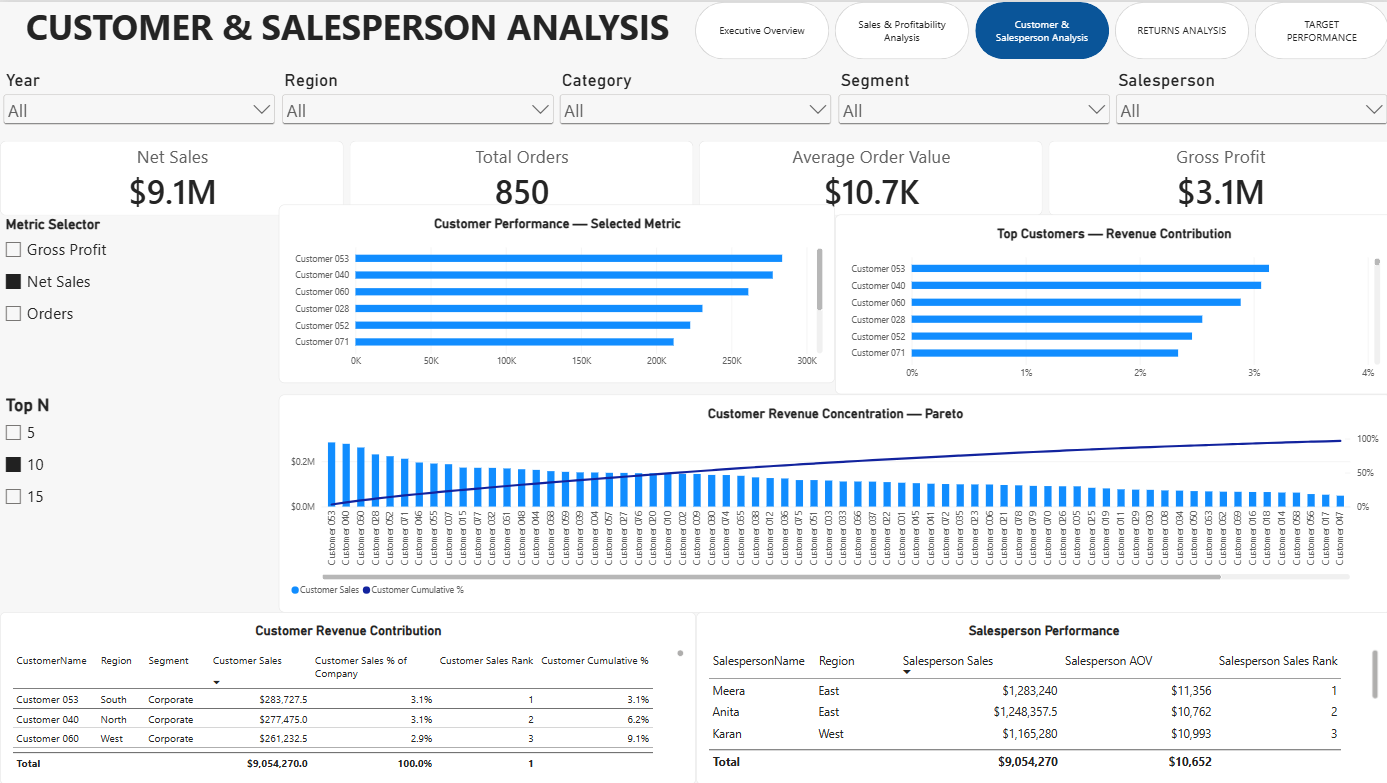

What the dashboard file says about the page in this screenshot:
{"tool":"powerbi","page":{"name":"Customer & Salesperson Analysis","canvas":[1920,1080],"ordinal":2},"visuals":[{"type":"textbox","box":[0,0,959.2,93.3],"z":0},{"type":"slicer","fields":{"Values":["DimDate.Year"]},"box":[0,93.5,384,97.4],"z":1000},{"type":"slicer","fields":{"Values":["DimRegion.Region"]},"box":[383.7,93.5,384,97.4],"z":2000},{"type":"slicer","fields":{"Values":["DimProduct.Category"]},"box":[767.4,93.5,384,97.4],"z":3000},{"type":"slicer","fields":{"Values":["DimCustomer.Segment"]},"box":[1151.1,93.5,384,97.4],"z":4000},{"type":"slicer","fields":{"Values":["DimSalesperson.SalespersonName"]},"box":[1534.8,93.5,384,97.4],"z":5000},{"type":"cardVisual","fields":{"Data":["Measures_table.Net Sales","Measures_table.Total Orders","Measures_table.Average Order Value","Measures_table.Gross Profit"]},"box":[0,190.9,1920.1,103.2],"z":6000},{"type":"clusteredBarChart","title":"Customer Performance — Selected Metric","fields":{"Category":["DimCustomer.CustomerName"],"Y":["Measures_table.Selected Metric"]},"box":[383.6,278.7,767.3,246.1],"z":7000},{"type":"clusteredBarChart","title":"Top Customers — Revenue Contribution","fields":{"Y":["Measures_table.Customer Sales % of Company"],"Category":["DimCustomer.CustomerName"]},"box":[1150.9,293.2,769.1,247.9],"z":8000},{"type":"lineClusteredColumnComboChart","title":"Customer Revenue Concentration — Pareto","fields":{"Y":["Measures_table.Customer Sales"],"Category":["DimCustomer.CustomerName"],"Y2":["Measures_table.Customer Cumulative %"]},"box":[383.6,541.1,1534.6,300.4],"z":9000},{"type":"tableEx","title":"Customer Revenue Contribution","fields":{"Values":["DimCustomer.CustomerName","DimCustomer.Region","DimCustomer.Segment","Measures_table.Customer Sales","Measures_table.Customer Sales % of Company","Measures_table.Customer Sales Rank","Measures_table.Customer Cumulative %"]},"box":[0,842,960,238],"z":10000},{"type":"tableEx","title":"Salesperson Performance","fields":{"Values":["DimSalesperson.SalespersonName","DimSalesperson.Region","Measures_table.Salesperson Sales","Measures_table.Salesperson AOV","Measures_table.Salesperson Sales Rank"]},"box":[960,842,958,238],"z":11000},{"type":"slicer","fields":{"Values":["Metric Selector.Metric"]},"box":[0,294,384,231],"z":12000},{"type":"slicer","fields":{"Values":["Top N Selector.Top N"]},"box":[0,541,384,300],"z":13000},{"type":"pageNavigator","box":[958.8,0,961.2,79.4],"z":14000}]}

Visuals, with their boxes in screenshot pixels (x1, y1, x2, y2), scaled from the page's 1920x1080 canvas onto the 1387x783 screenshot:
textbox: <box>0,0,693,68</box>
slicer - DimDate.Year: <box>0,68,277,138</box>
slicer - DimRegion.Region: <box>277,68,555,138</box>
slicer - DimProduct.Category: <box>554,68,832,138</box>
slicer - DimCustomer.Segment: <box>832,68,1109,138</box>
slicer - DimSalesperson.SalespersonName: <box>1109,68,1386,138</box>
cardVisual - Measures_table.Net Sales x Measures_table.Total Orders: <box>0,138,1386,213</box>
"Customer Performance — Selected Metric" clusteredBarChart: <box>277,202,831,380</box>
"Top Customers — Revenue Contribution" clusteredBarChart: <box>831,213,1386,392</box>
"Customer Revenue Concentration — Pareto" lineClusteredColumnComboChart: <box>277,392,1386,610</box>
"Customer Revenue Contribution" tableEx: <box>0,610,694,782</box>
"Salesperson Performance" tableEx: <box>694,610,1386,782</box>
slicer - Metric Selector.Metric: <box>0,213,277,381</box>
slicer - Top N Selector.Top N: <box>0,392,277,610</box>
pageNavigator: <box>693,0,1386,58</box>
